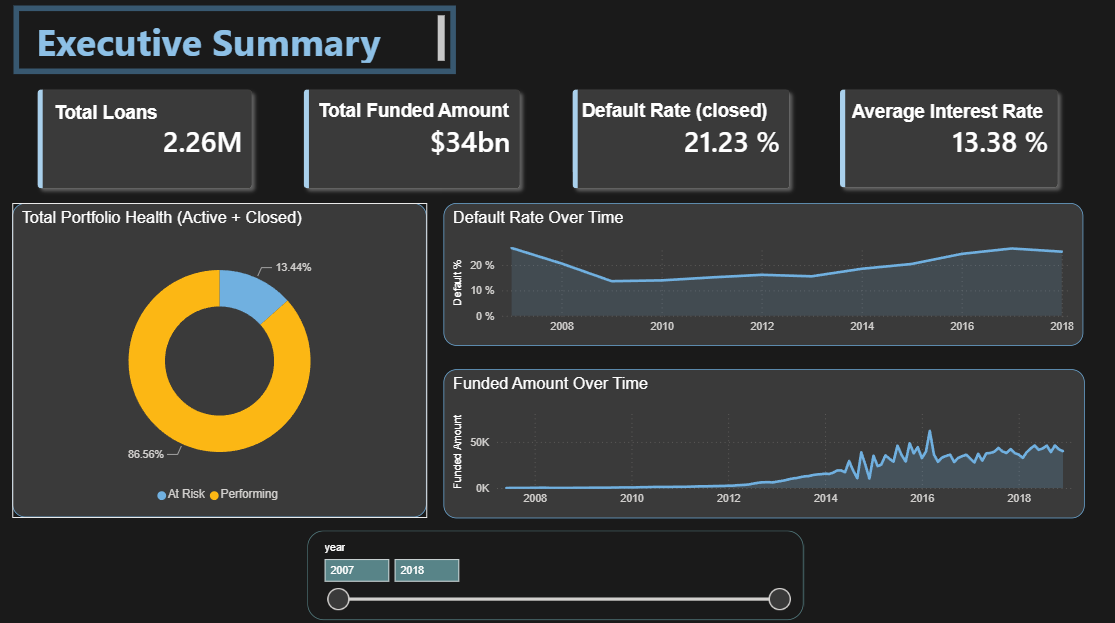

What the dashboard file says about the page in this screenshot:
{"tool":"powerbi","page":{"name":"Executive Summary","canvas":[1280,720],"ordinal":0},"visuals":[{"type":"textbox","box":[19.3,8.4,505.5,78.4],"z":0},{"type":"cardVisual","fields":{"Data":["fact_loans.Total Loans"]},"box":[19.2,75.6,303.3,171.5],"z":1000,"group":"g1"},{"type":"lineChart","title":"Default Rate Over Time","fields":{"Category":["dim_date.issue_d.Variación.Jerarquía de fechas.Año","dim_date.issue_d.Variación.Jerarquía de fechas.Trimestre","dim_date.issue_d.Variación.Jerarquía de fechas.Mes","dim_date.issue_d.Variación.Jerarquía de fechas.Día"],"Y":["fact_loans.Default %"]},"box":[511.8,234.6,731.4,163.3],"z":1000},{"type":"textbox","box":[61.5,114.4,209.9,37],"z":2000,"group":"g1"},{"type":"lineChart","title":"Funded Amount Over Time","fields":{"Category":["dim_date.issue_d.Variación.Jerarquía de fechas.Año","dim_date.issue_d.Variación.Jerarquía de fechas.Trimestre","dim_date.issue_d.Variación.Jerarquía de fechas.Mes","dim_date.issue_d.Variación.Jerarquía de fechas.Día"],"Y":["fact_loans.Total Loans"]},"box":[511.8,424,732.8,170.2],"z":2000},{"type":"slicer","fields":{"Values":["dim_date.year"]},"box":[355.4,607.9,567.5,102.5],"z":3000},{"type":"group","id":"g1","title":"Grupo 1","box":[19.2,75.6,303.3,171.5],"z":4000},{"type":"cardVisual","fields":{"Data":["fact_loans.Default %"]},"box":[629.4,75.6,306,171.5],"z":5000,"group":"g4"},{"type":"group","id":"g2","title":"Grupo 4","box":[935.9,76.2,307.4,170.2],"z":5000},{"type":"group","id":"g3","title":"Grupo 2","box":[322.9,75.6,306,171.5],"z":6000},{"type":"textbox","box":[663.9,111.5,242.3,71.4],"z":6000,"group":"g4"},{"type":"cardVisual","title":"Average Interest Rate","fields":{"Data":["fact_loans.Avg. Interest Rate"]},"box":[935.9,76.2,307.4,170.2],"z":7000,"group":"g6"},{"type":"donutChart","title":"Total Portfolio Health (Active + Closed)","fields":{"Series":["fact_loans.Performing"],"Y":["Divide(fact_loans.Total Loans, ScopedEval(fact_loans.Total Loans, []))"]},"box":[19.2,234.6,473.4,359.5],"z":7000},{"type":"group","id":"g4","title":"Group 2","box":[629.4,75.6,306,171.5],"z":8000},{"type":"textbox","box":[973.1,113.2,252.5,35.7],"z":8000,"group":"g6"},{"type":"group","id":"g5","title":"Group 1","box":[322.9,75.6,305.8,171],"z":9001,"group":"g3"},{"type":"cardVisual","fields":{"Data":["fact_loans.Total Funded Amount"]},"box":[322.9,75.6,305.8,171],"z":10000,"group":"g5"},{"type":"textbox","box":[362.7,110.8,233.3,38.4],"z":11000,"group":"g5"},{"type":"group","id":"g6","title":"Grupo 5","box":[935.9,76.2,307.4,170.2],"z":12005,"group":"g2"}]}

Visuals, with their boxes in screenshot pixels (x1, y1, x2, y2), scaled from the page's 1280x720 canvas onto the 1115x623 screenshot:
textbox: left=17, top=7, right=457, bottom=75
cardVisual - fact_loans.Total Loans: left=17, top=65, right=281, bottom=214
"Default Rate Over Time" lineChart: left=446, top=203, right=1083, bottom=344
textbox: left=54, top=99, right=236, bottom=131
"Funded Amount Over Time" lineChart: left=446, top=367, right=1084, bottom=514
slicer - dim_date.year: left=310, top=526, right=804, bottom=615
"Grupo 1" group: left=17, top=65, right=281, bottom=214
cardVisual - fact_loans.Default %: left=548, top=65, right=815, bottom=214
"Grupo 4" group: left=815, top=66, right=1083, bottom=213
"Grupo 2" group: left=281, top=65, right=548, bottom=214
textbox: left=578, top=96, right=789, bottom=158
"Average Interest Rate" cardVisual: left=815, top=66, right=1083, bottom=213
"Total Portfolio Health (Active + Closed)" donutChart: left=17, top=203, right=429, bottom=514
"Group 2" group: left=548, top=65, right=815, bottom=214
textbox: left=848, top=98, right=1068, bottom=129
"Group 1" group: left=281, top=65, right=548, bottom=213
cardVisual - fact_loans.Total Funded Amount: left=281, top=65, right=548, bottom=213
textbox: left=316, top=96, right=519, bottom=129
"Grupo 5" group: left=815, top=66, right=1083, bottom=213
